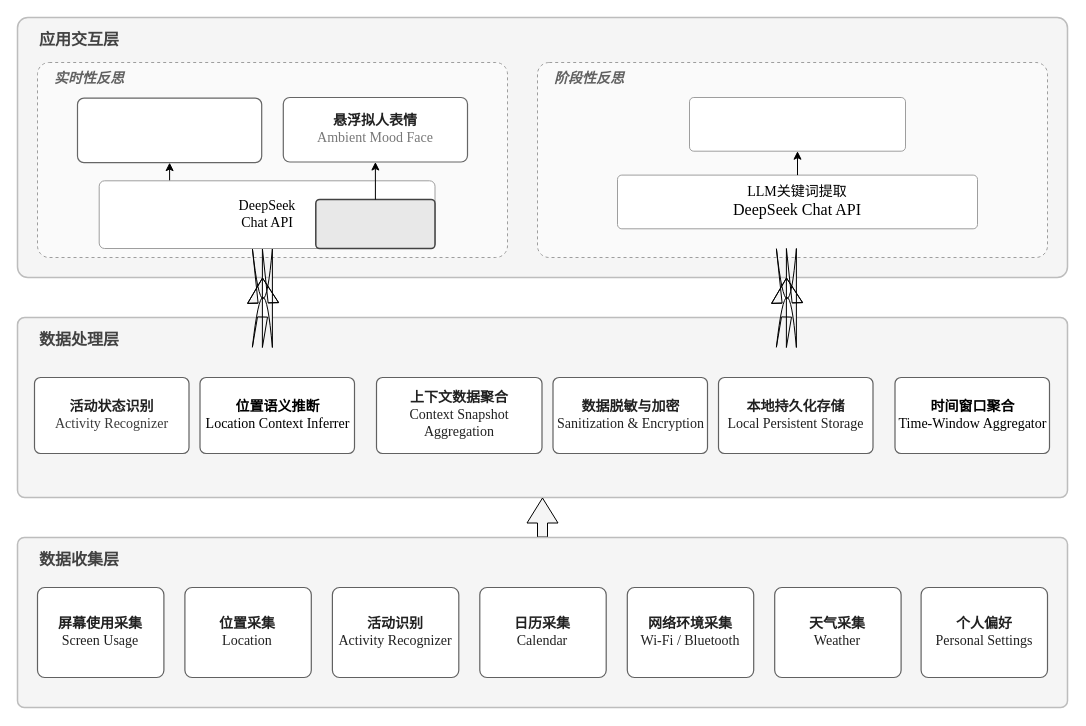
Image size: 1086x726. Some labels were removed from this diagram. The shapes that lost their labels are listed below. From the top down, each one's centre as x and y in pixels, then its label:
At [169,130]: "反思气泡提示 Reflective Nudge Bubble".
At [797,123]: "壁纸图像生成 Qwen Image API".
At [375,223]: "LLM 评分引擎 LLM Scoring Engine".
